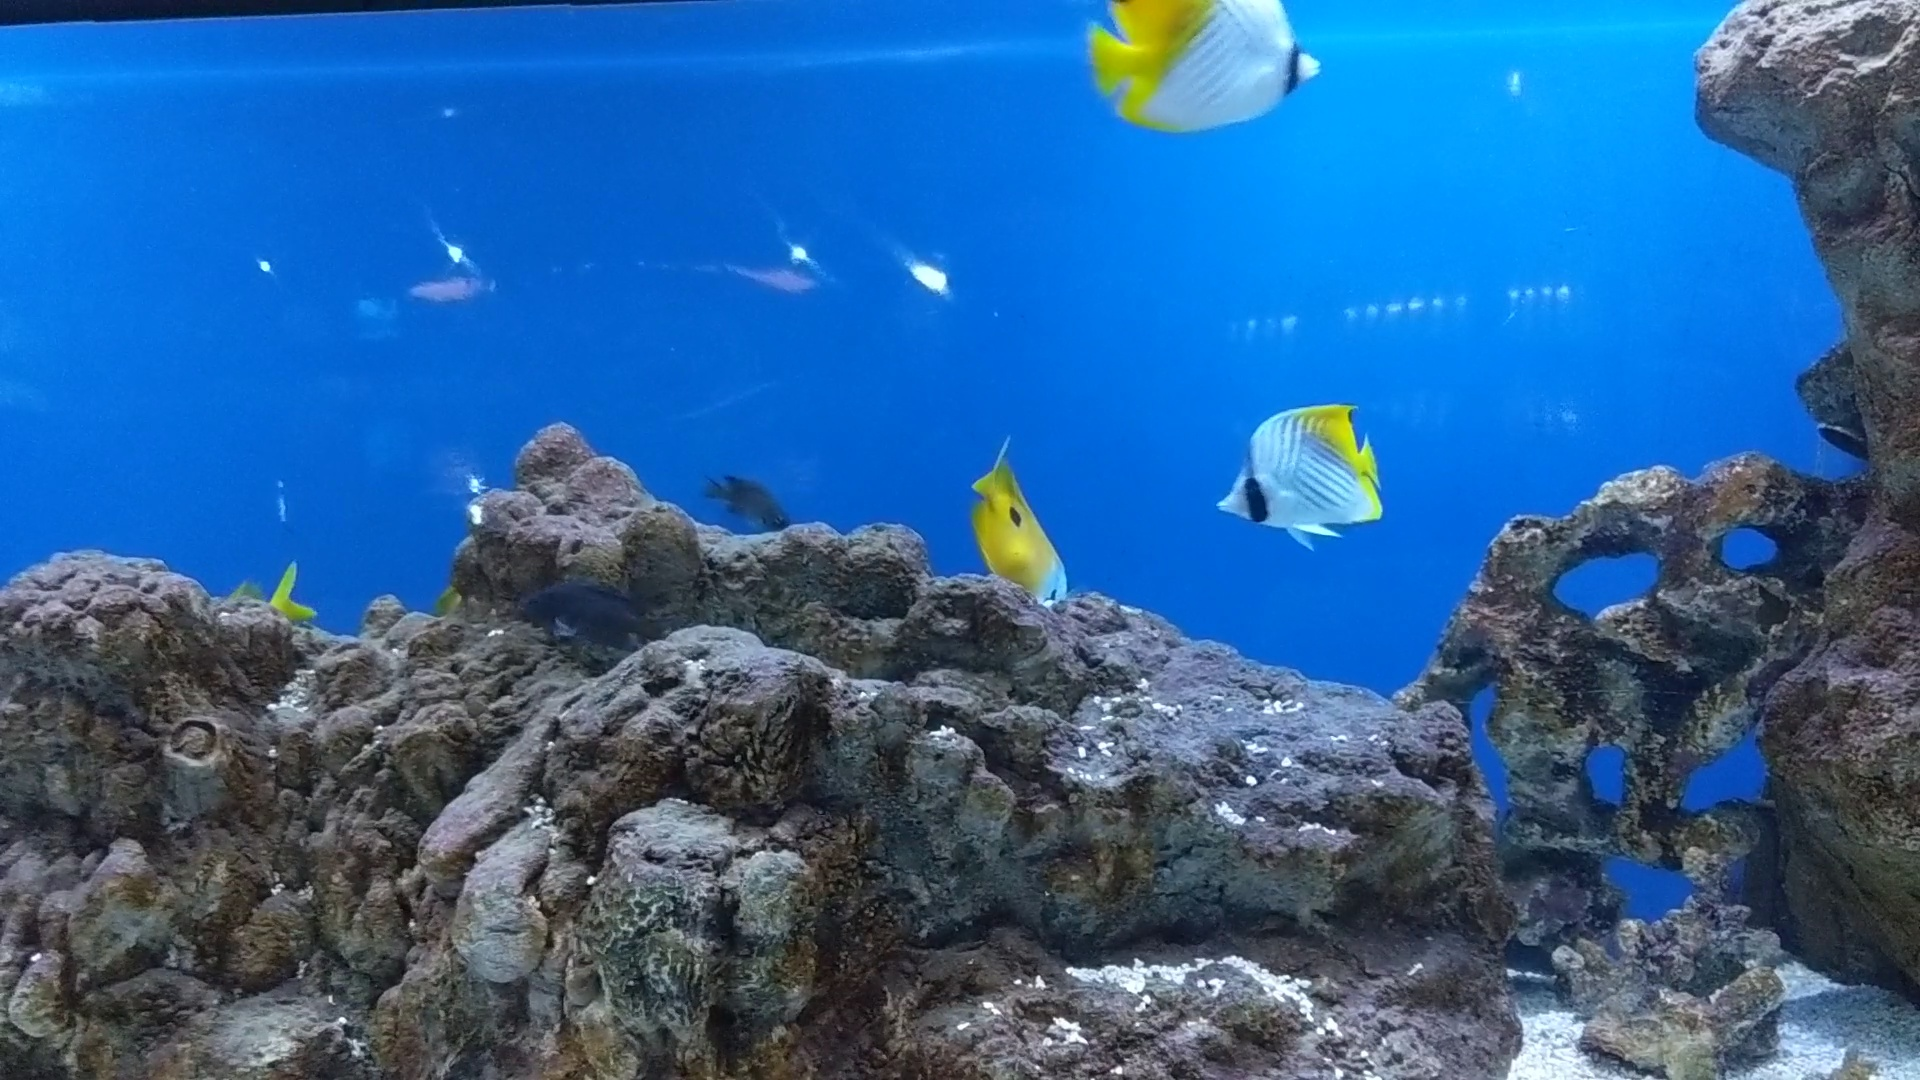butterflyfish: (1087, 0, 1311, 142), (1191, 414, 1396, 534)
